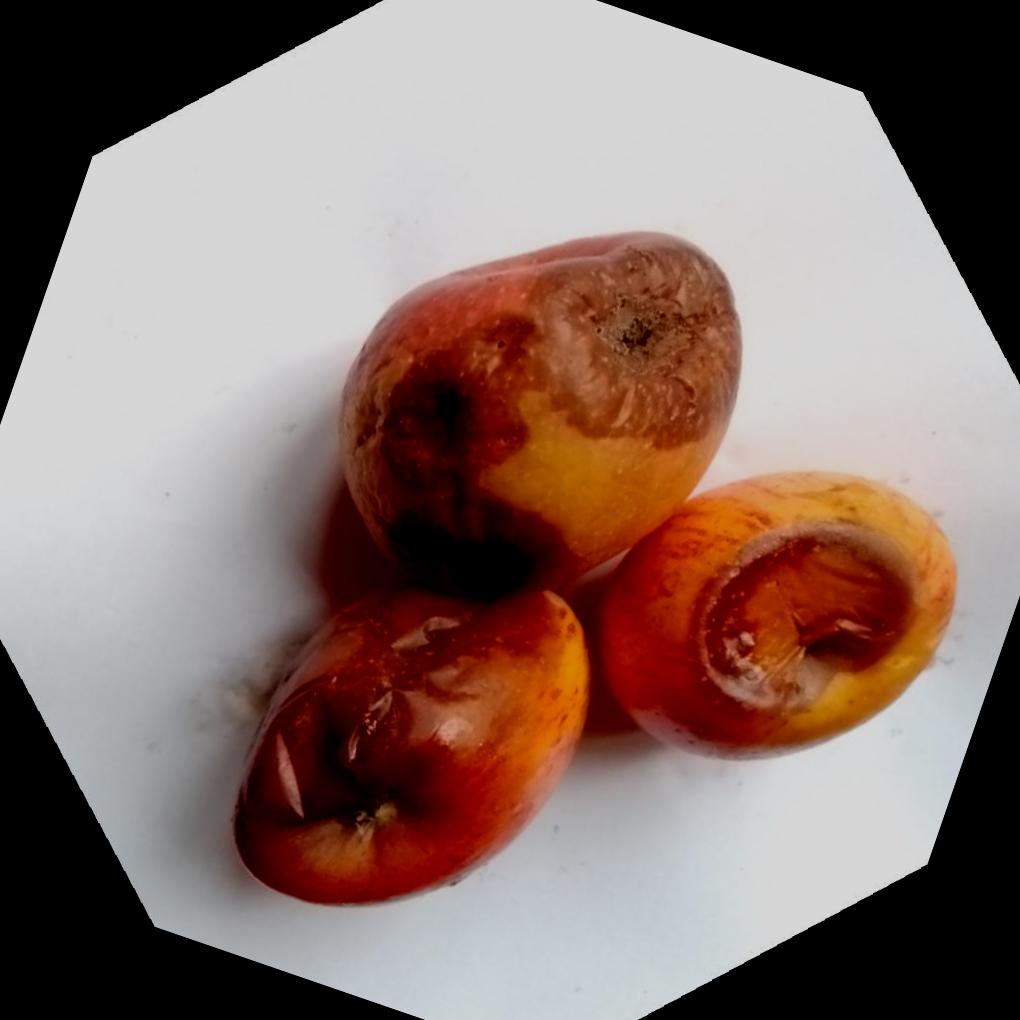FreshOrange: (231, 233, 957, 911)
